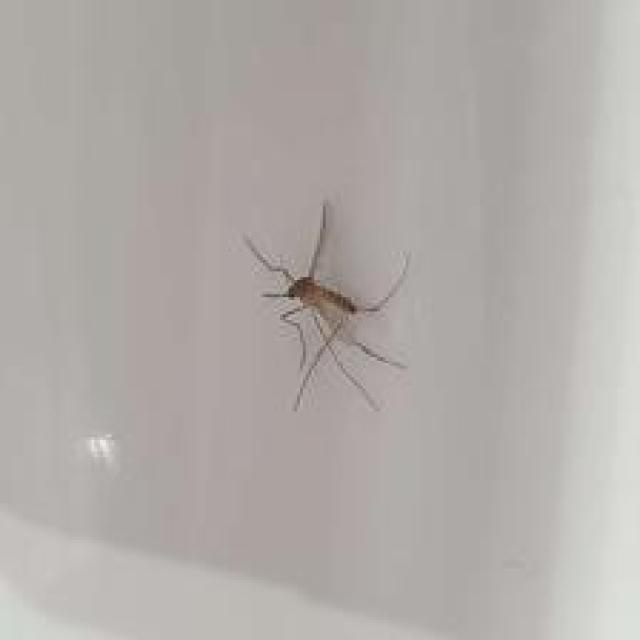Culex: (243, 198, 411, 413)
